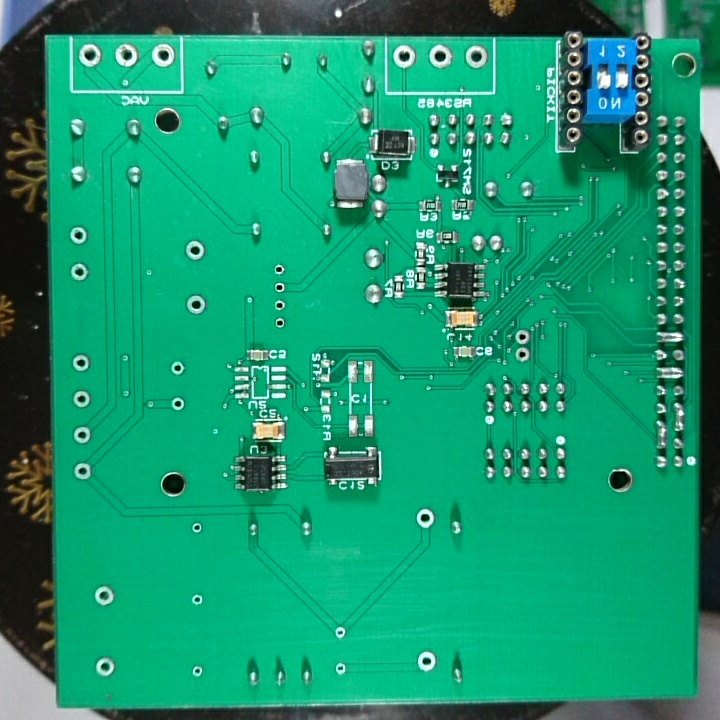F: (148, 41, 177, 69), (391, 44, 419, 72), (76, 42, 103, 69), (427, 43, 453, 71), (462, 44, 488, 72), (414, 648, 440, 675), (113, 41, 137, 70), (68, 260, 92, 285), (182, 238, 206, 263), (184, 292, 208, 316), (414, 506, 437, 531), (91, 584, 114, 609), (93, 655, 117, 678), (71, 460, 95, 483), (67, 223, 90, 247), (68, 424, 92, 446), (69, 352, 93, 374), (71, 389, 94, 410), (511, 325, 532, 346), (188, 591, 207, 611), (168, 394, 187, 414), (512, 344, 531, 364), (188, 662, 206, 681), (188, 519, 205, 538), (168, 359, 185, 378), (271, 297, 289, 314), (332, 623, 348, 642), (332, 660, 349, 677), (271, 261, 287, 278), (272, 279, 288, 296), (271, 315, 288, 331)
P: (670, 401, 688, 434), (653, 418, 670, 452), (654, 365, 688, 381), (655, 329, 689, 345)
